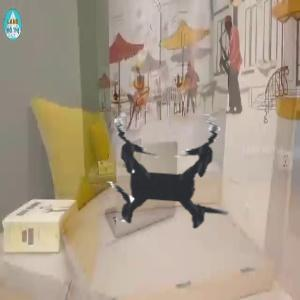drone: (49, 61, 281, 293)
